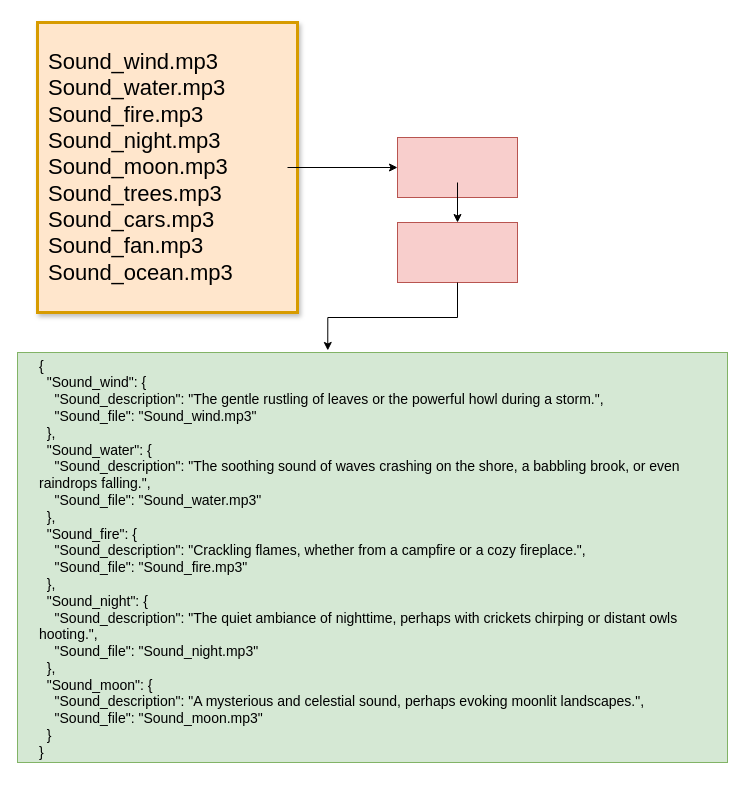
Some shapes in this 745 by 795 pixel diagram are drawn without their labels. The shapes that lost their labels are listed below. From the top down, each one's centre as x and y in pixels, then its label:
the point at 457,167: INDEXING
the point at 457,252: Generate JSON
